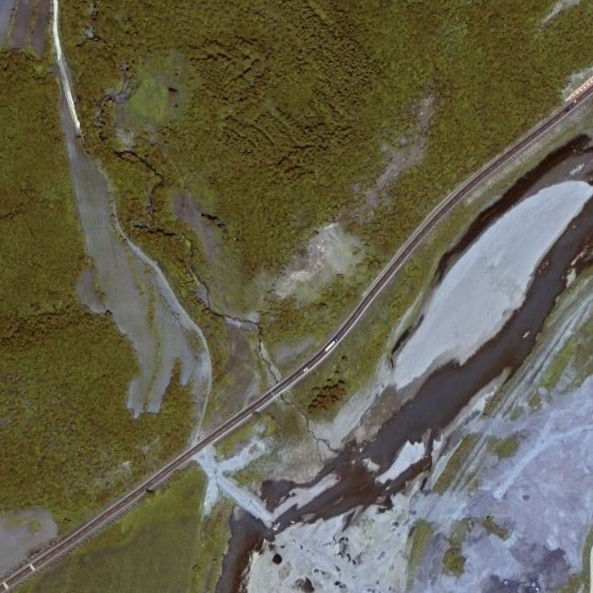slope: (277, 221, 367, 300)
